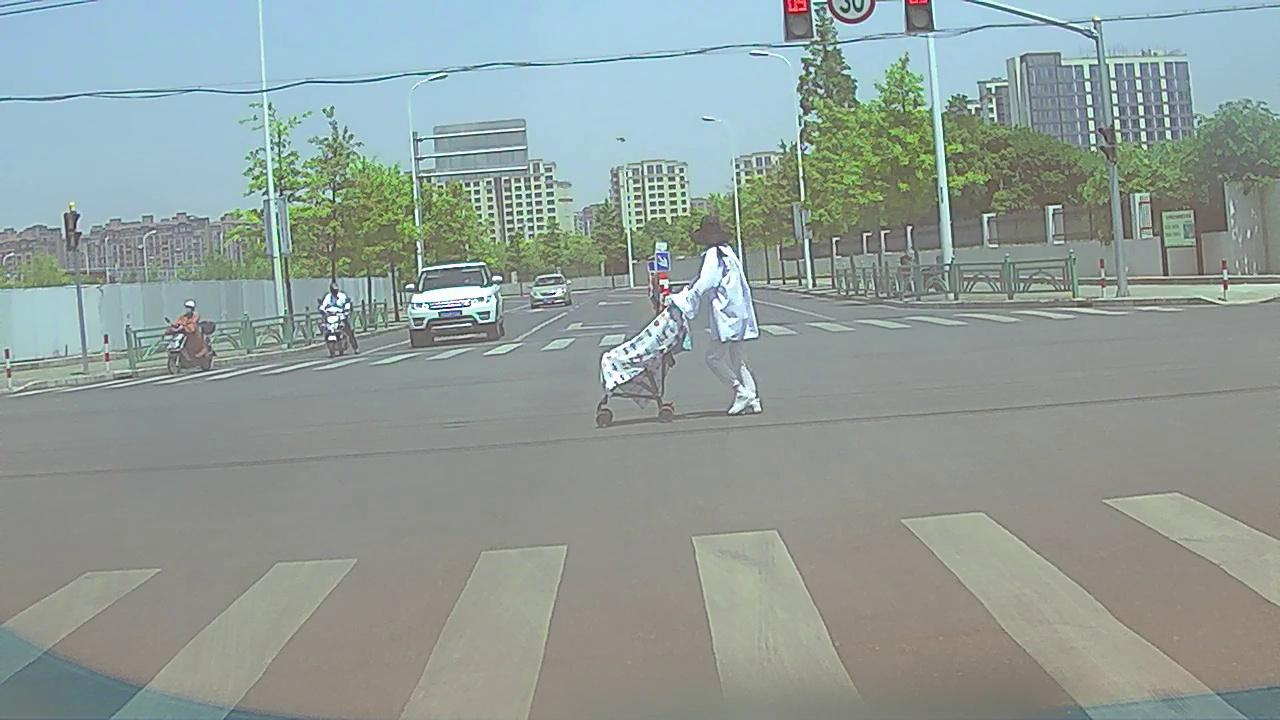traffic_light: (784, 1, 812, 38), (909, 1, 933, 31)
